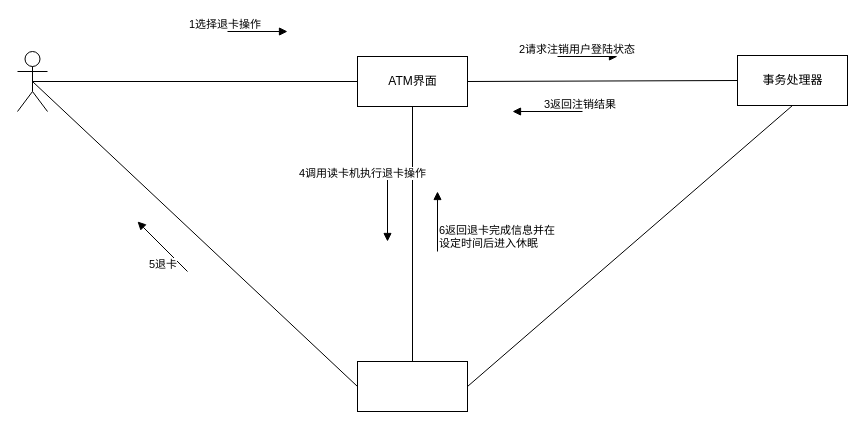
Image size: 865x429. Some labels were removed from this diagram. Here are the shapes that lost their labels. From the top down, the centre of each, then its label:
At [32,81]: "客户".
At [412,386]: "读卡机".
